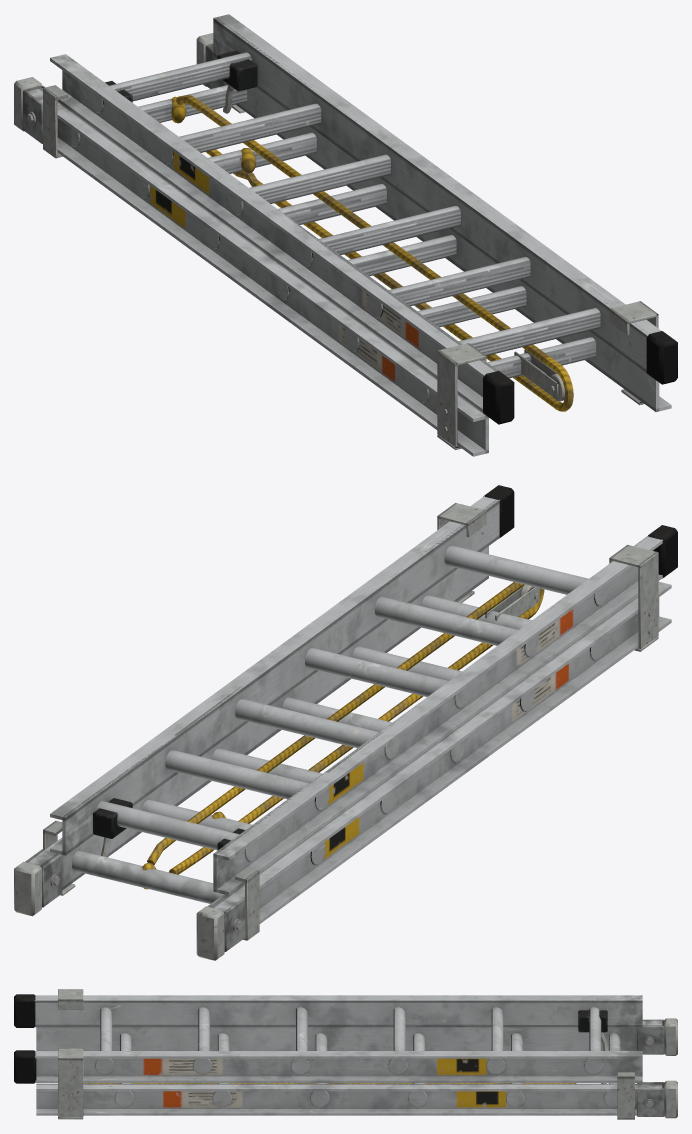
The model's file is Ladder.fbx.
The picture shows the model from 3 angles, top to bottom: view 1: azimuth 30°, elevation 25°; view 2: azimuth 150°, elevation 25°; view 3: azimuth 270°, elevation 25°; orthographic projection. The views are drawn at different scales.
Parts seen in each view (by area): view 1: LadderFly, Ladder; view 2: LadderFly, Ladder; view 3: LadderFly, Ladder.
Boxes of the visible parts, x1,y1,x2,y2 form: LadderFly: (43,14,677,424); Ladder: (14,33,671,456); LadderFly: (43,485,677,940); Ladder: (14,503,671,960); LadderFly: (14,994,642,1119); Ladder: (36,989,677,1119).
Bounding box in the file's own units: 1.74 × 0.69 × 6.79.
Materials: 1 (1 with a texture image).
